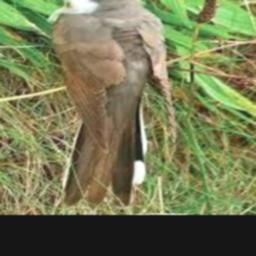Cuckoo: (35, 0, 169, 203)
